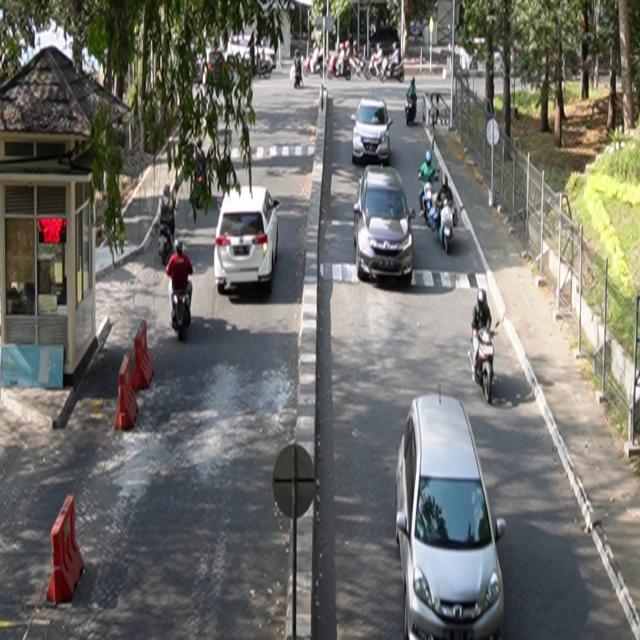car: (395, 388, 508, 640), (354, 165, 416, 284), (215, 186, 282, 296), (352, 98, 394, 166)
